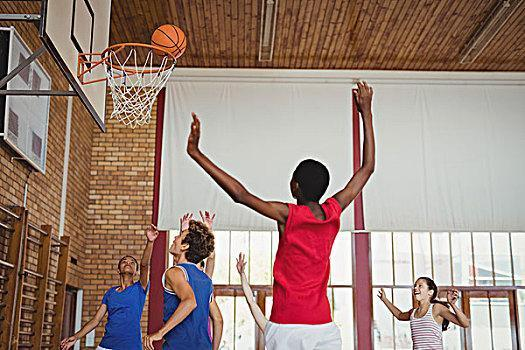ball: (151, 24, 186, 59)
human: (187, 82, 376, 350), (60, 224, 158, 350), (144, 220, 222, 350), (378, 277, 470, 350)
rim: (104, 43, 176, 125)
